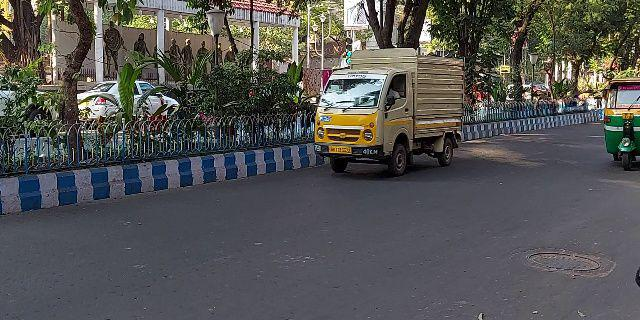Autorickshaw: (600, 77, 640, 172)
Minitruck: (313, 47, 469, 180)
